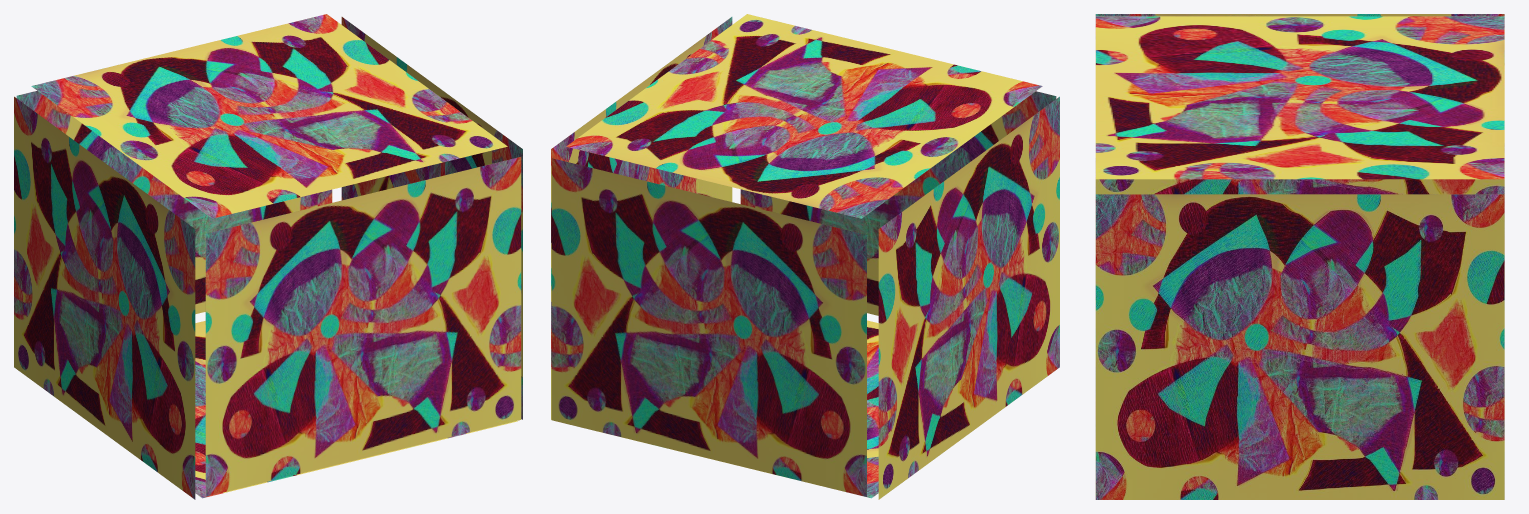
The model's file is pattern1-9x9x5.gltf.
3 views of the same model, side by side, from view 1: azimuth 30°, elevation 25°; view 2: azimuth 150°, elevation 25°; view 3: azimuth 270°, elevation 25° (orthographic). The views are drawn at different scales.
Parts seen in each view (by area): view 1: Cube.005; view 2: Cube.005; view 3: Cube.005.
Boxes of the visible parts, x1,y1,x2,y2 form: Cube.005: [14, 14, 522, 499]; Cube.005: [551, 14, 1059, 499]; Cube.005: [1095, 14, 1504, 499].
Bounding box in the file's own units: 3 × 2.43 × 3.
Materials: 1 (1 with a texture image).
